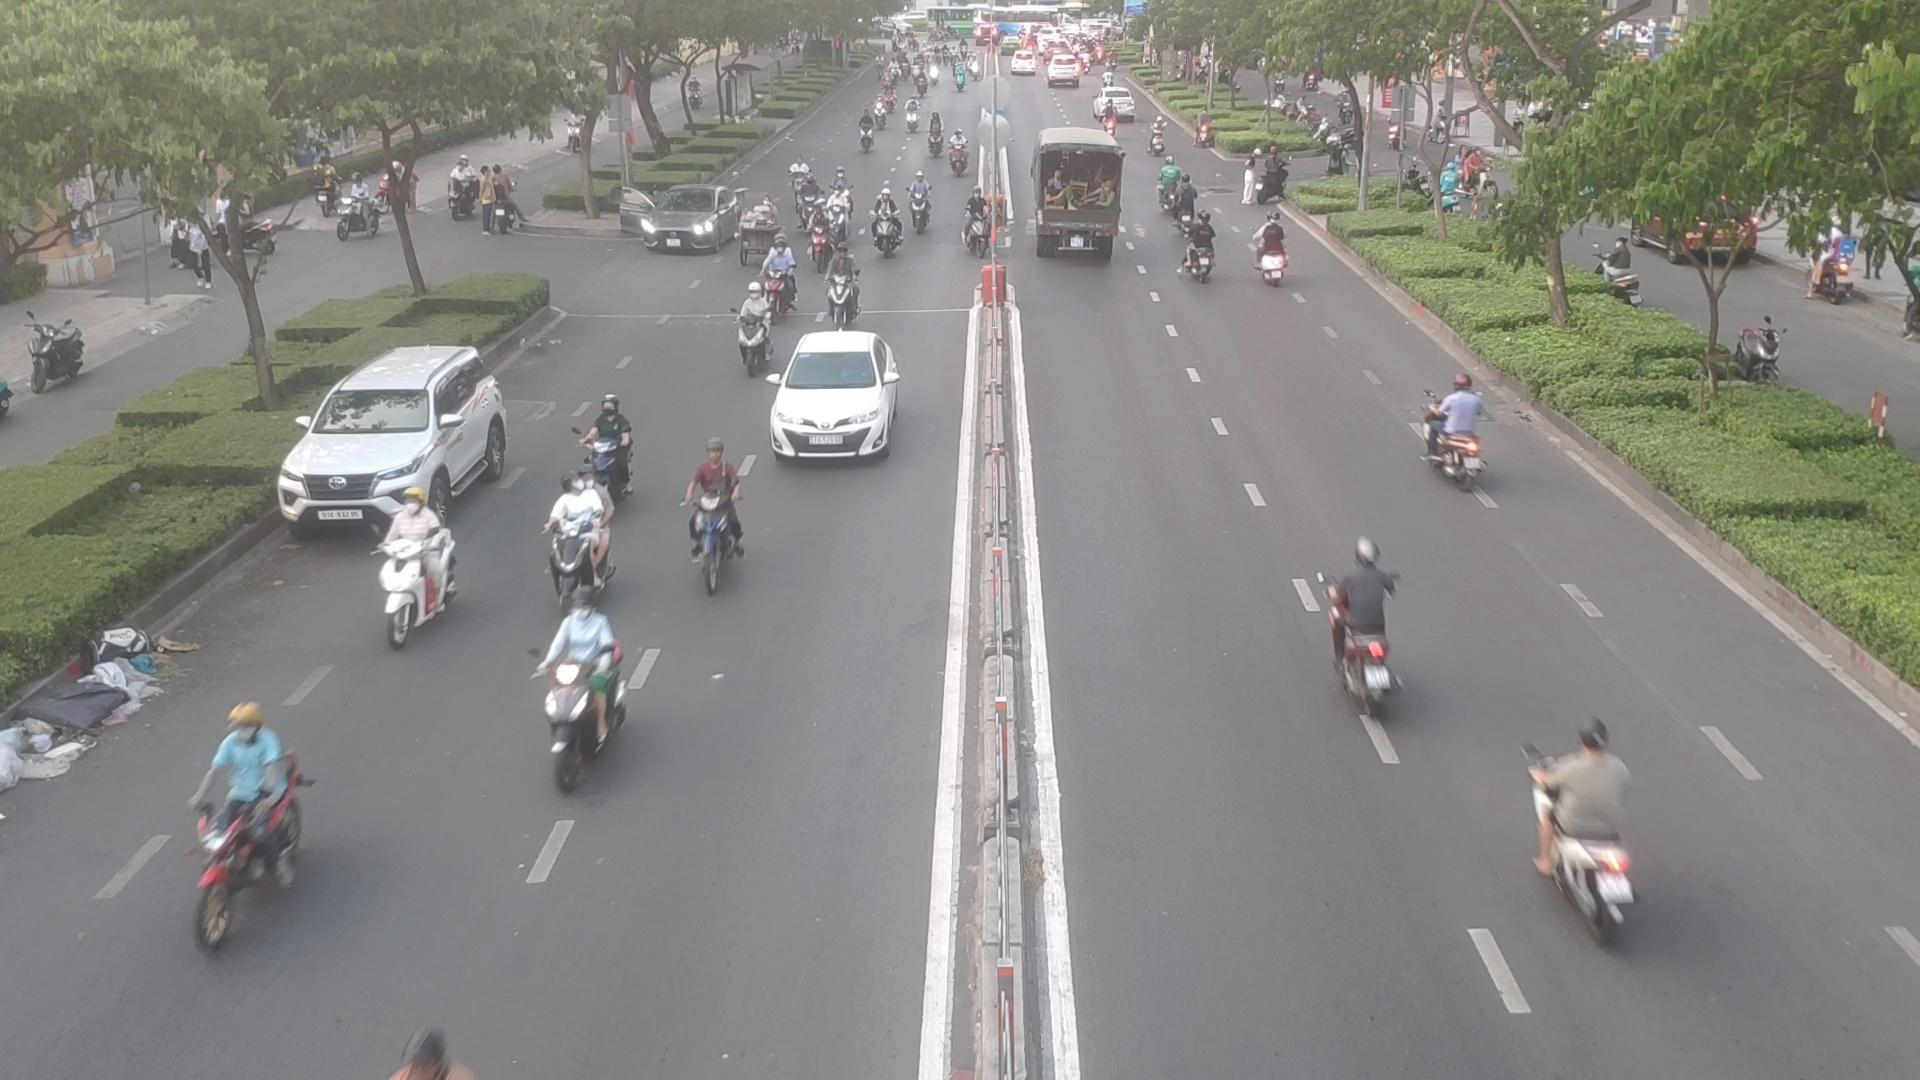car: (284, 343, 520, 529), (762, 331, 903, 459), (616, 191, 750, 258)
motorbike: (174, 705, 315, 957), (1516, 724, 1658, 938), (531, 603, 655, 770), (364, 492, 469, 644), (1313, 550, 1408, 716), (676, 451, 764, 591), (545, 473, 622, 595), (1418, 375, 1505, 481), (574, 394, 644, 491), (723, 293, 771, 371), (827, 240, 866, 334), (764, 229, 796, 320), (1251, 218, 1294, 285), (960, 179, 996, 257), (1176, 222, 1218, 282), (1154, 162, 1203, 212), (870, 186, 903, 253), (906, 164, 936, 233), (855, 117, 880, 154)
